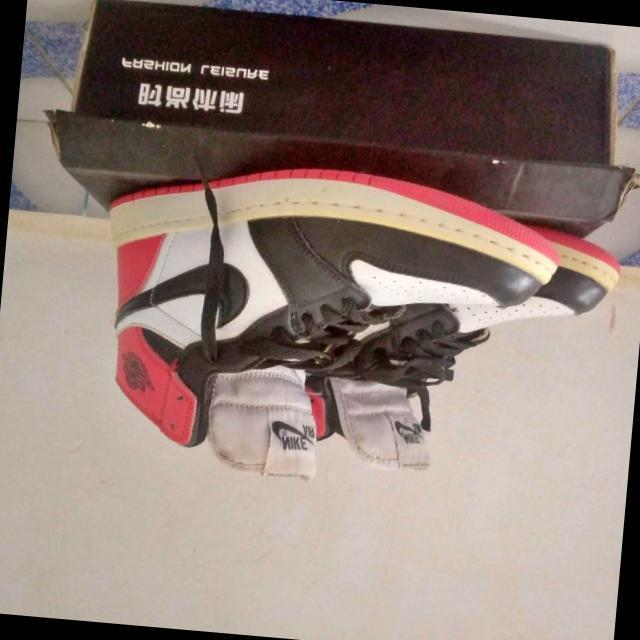nike fake jordan 1: (81, 145, 568, 505), (298, 206, 630, 487)
